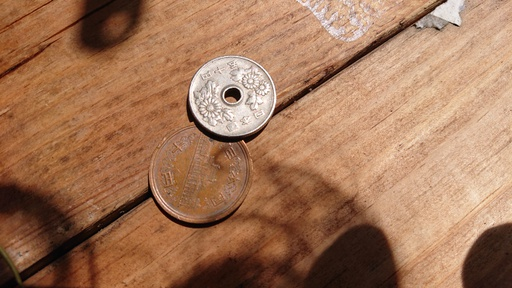10yen: (149, 122, 252, 224)
50yen: (188, 56, 276, 139)
